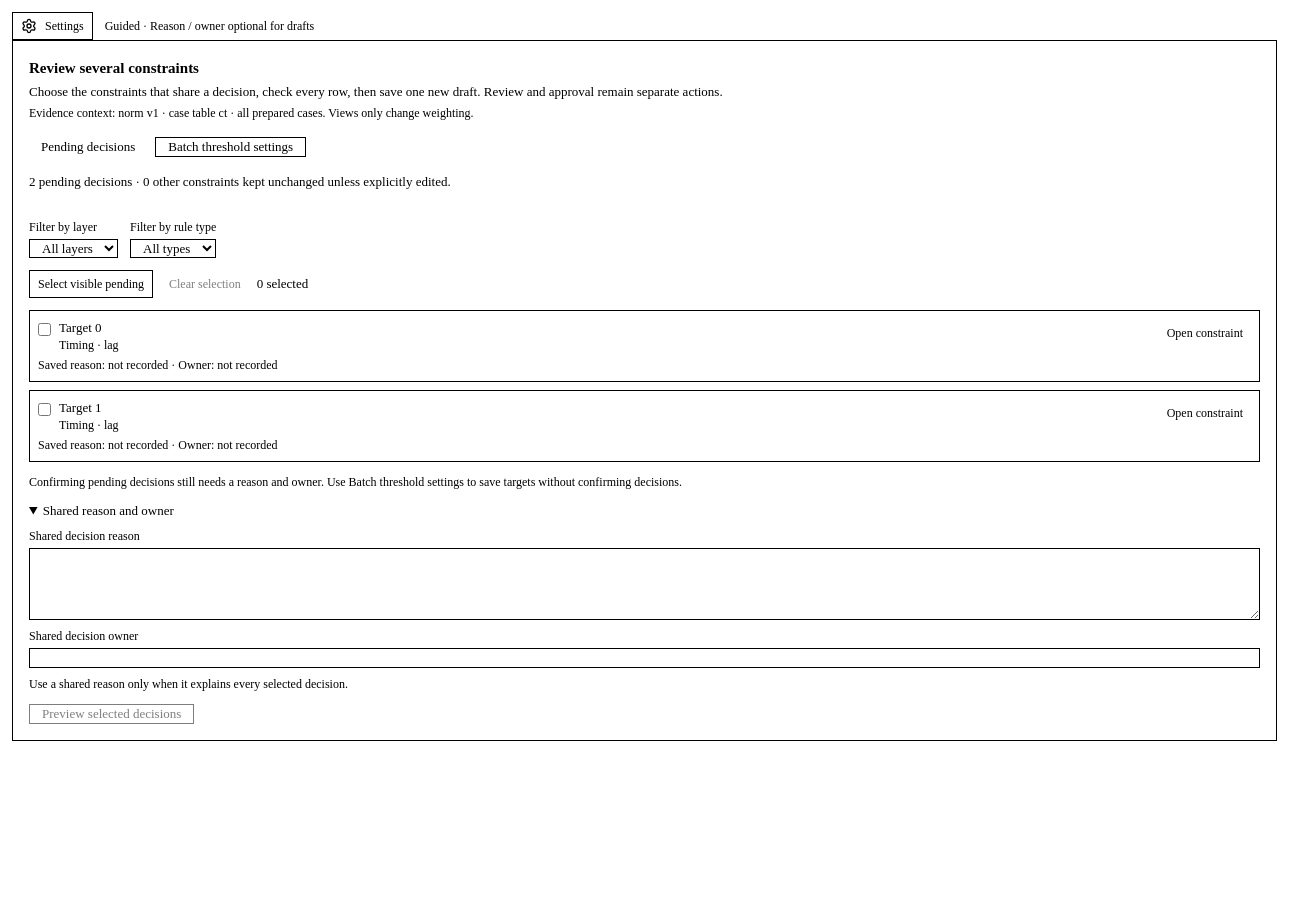
Test: keeps confirmation-only decisions gated by explicit reason and owner even when skip is enabled
Expected: the text "2 pending decisions" is shown, [29,174,451,189]
Click the button "Select visible pending" at (91, 284), box [29,270,153,298]
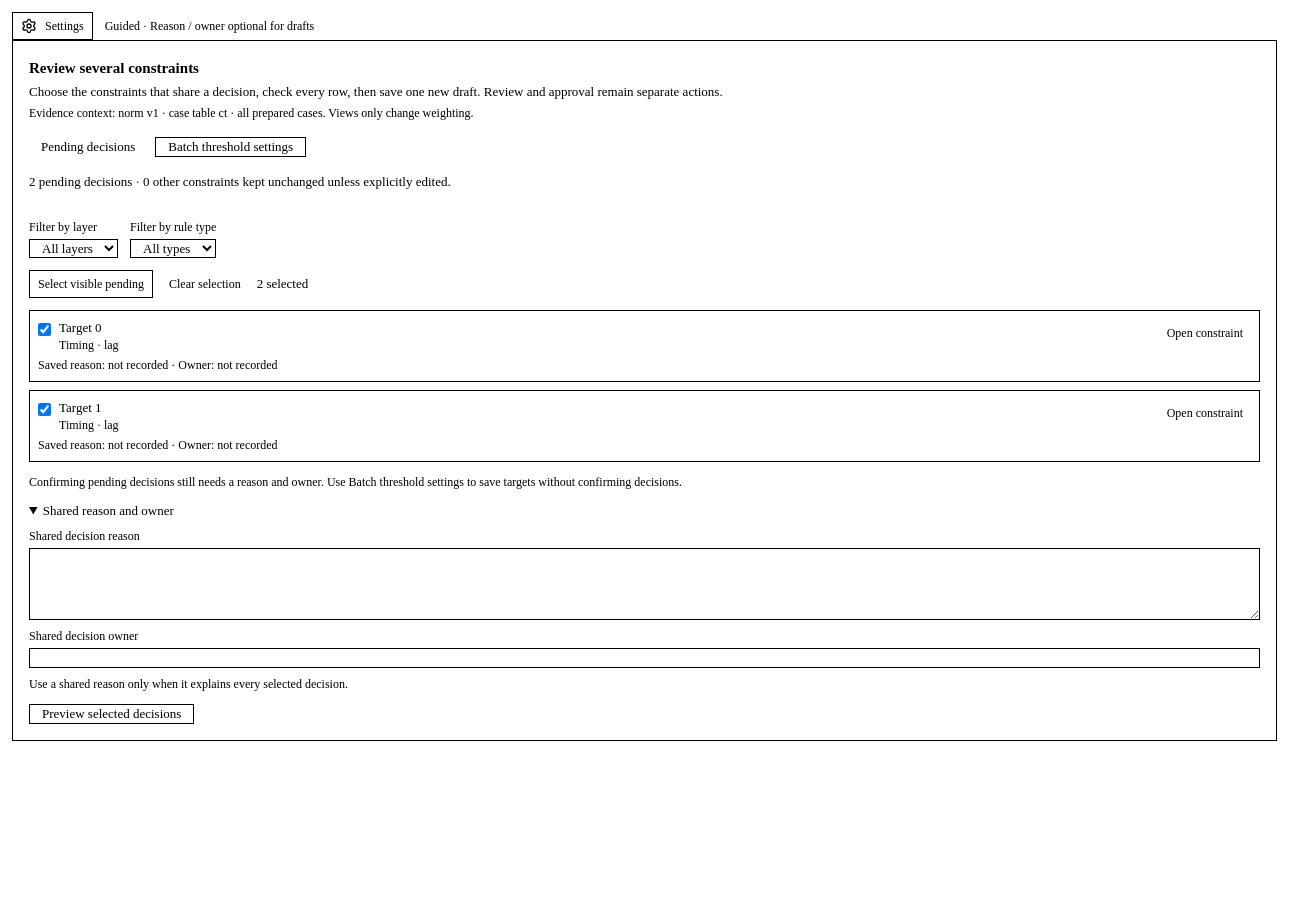
Click the button "Preview selected decisions" at (112, 714), box [29,704,194,724]
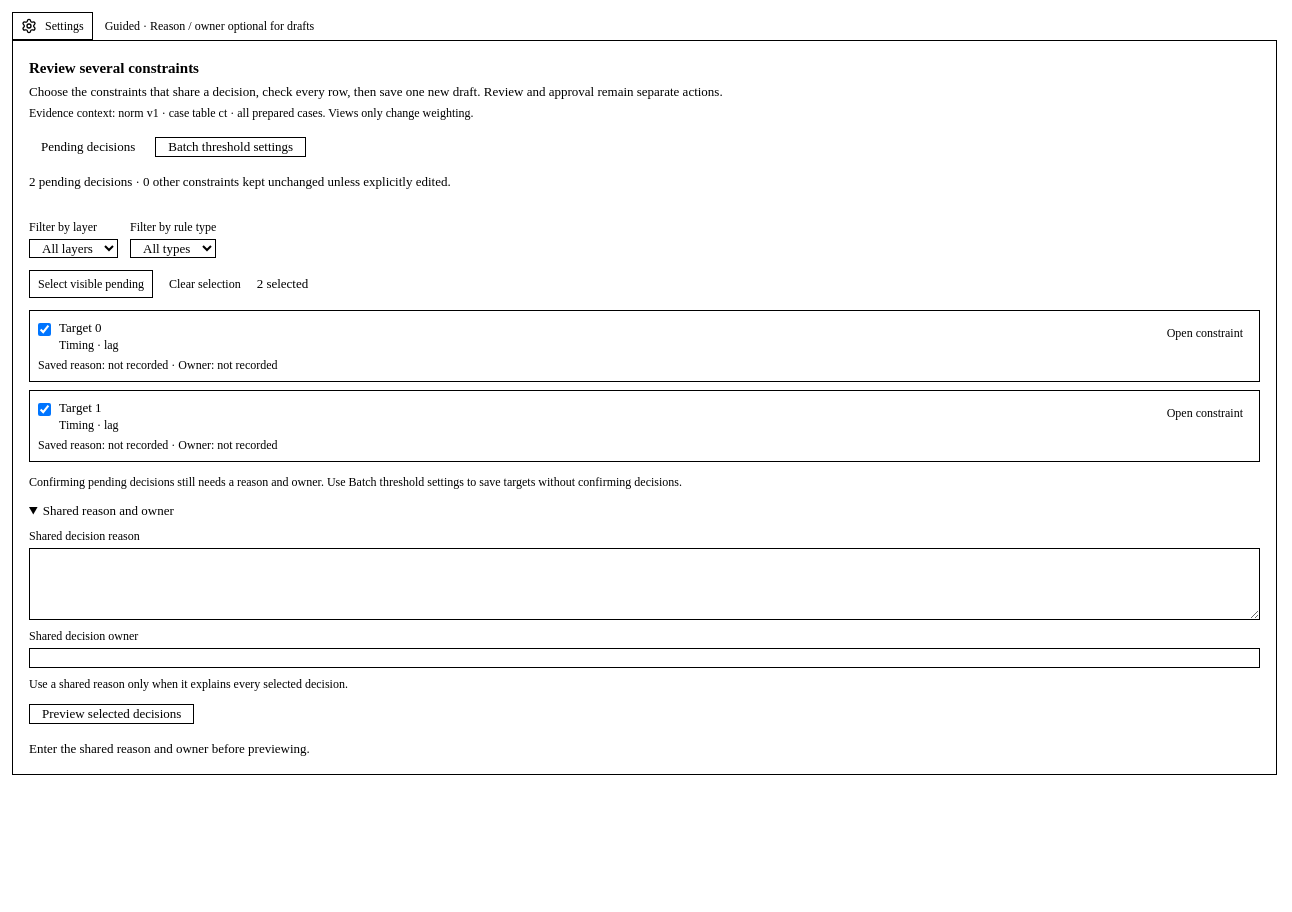
Result: the message "Enter the shared reason and owner before previewing." is shown at [29,741,310,756]
